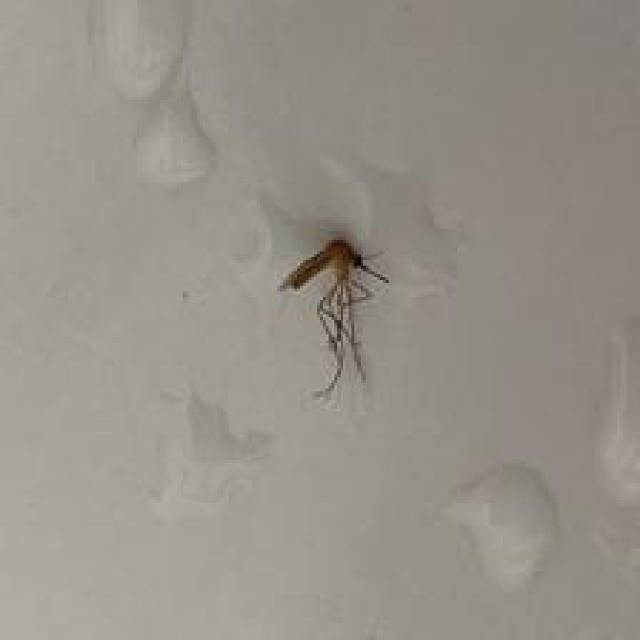Culex: (276, 235, 390, 398)
